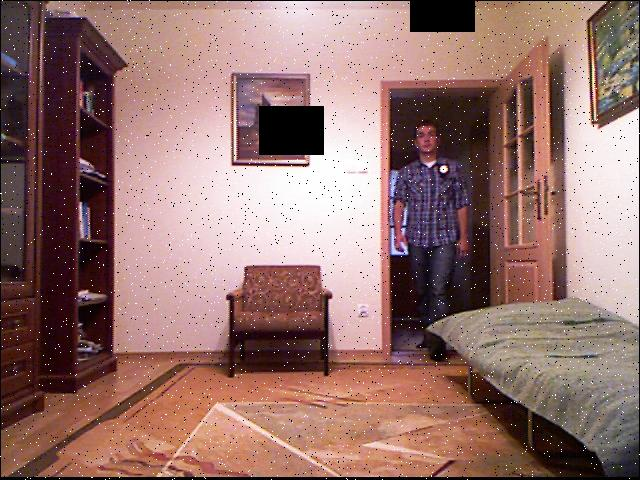walking: (394, 111, 473, 364)
